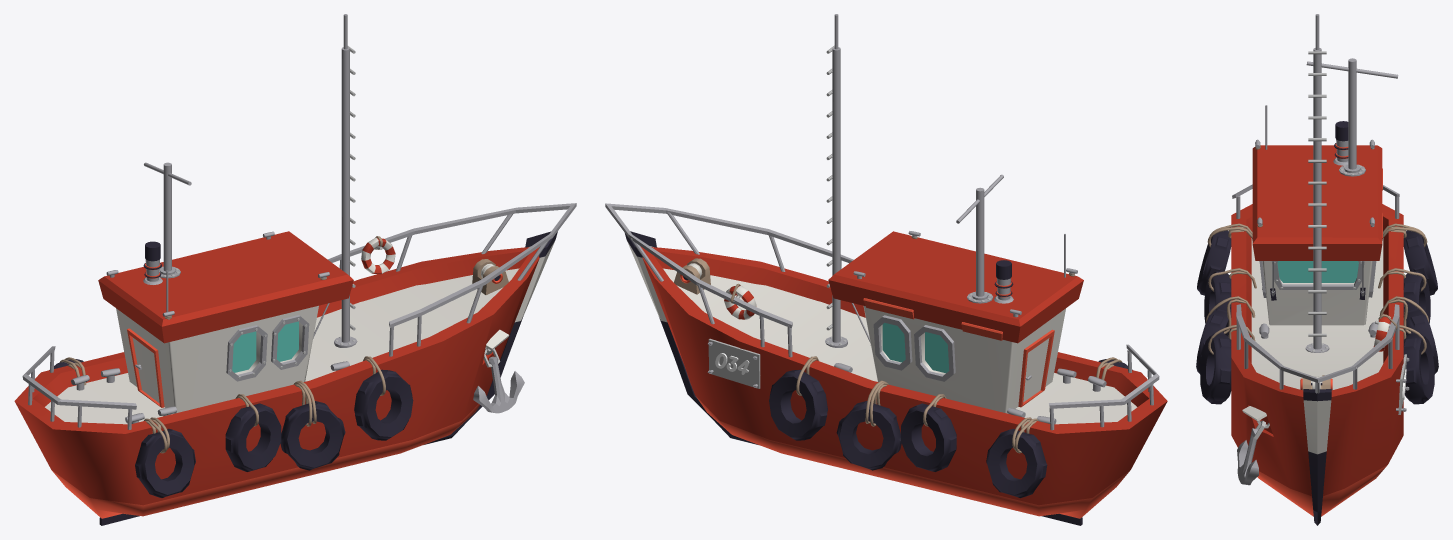
The model's file is ship.glb.
3 views of the same model, side by side, from view 1: azimuth 30°, elevation 25°; view 2: azimuth 150°, elevation 25°; view 3: azimuth 270°, elevation 25° (orthographic). The views are drawn at different scales.
Visible parts, largest first — view 1: polySurface22, pCube49, pCylinder203, polySurface18, polySurface19, polySurface24, pCylinder274, pCube52, polySurface23, pCube54, polySurface21, pCylinder275 (+3 smaller); view 2: polySurface22, pCube49, pCylinder203, polySurface18, polySurface19, polySurface24, pCylinder274, pCube51, polySurface23, typeMesh3, polySurface21, pCylinder275 (+3 smaller); view 3: polySurface22, pCube49, pCylinder203, polySurface19, polySurface18, polySurface23, pCylinder274, polySurface24, pCylinder275, pCube54, pCube53, typeMesh3 (+3 smaller).
Boxes of the visible parts, x1,y1,x2,y2 form: polySurface22: (14,247,539,518); pCube49: (98,231,353,343); pCylinder203: (49,356,413,497); polySurface18: (116,305,318,413); polySurface19: (45,268,519,424); polySurface24: (328,203,576,356); pCylinder274: (341,47,349,342); pCube52: (226,315,309,381); polySurface23: (99,231,557,525); pCube54: (473,356,524,413); polySurface21: (22,346,136,409); pCylinder275: (163,162,171,271); polySurface22: (640,246,1167,518); pCube49: (828,231,1083,343); pCylinder203: (769,356,1132,498); polySurface18: (863,306,1065,413); polySurface19: (663,268,1137,424); polySurface24: (605,203,853,357); pCylinder274: (832,47,840,342); pCube51: (873,315,955,381); polySurface23: (625,231,1082,525); typeMesh3: (707,338,760,388); polySurface21: (1049,344,1159,408); pCylinder275: (976,187,984,296); polySurface22: (1231,204,1403,516); pCube49: (1252,145,1382,260); pCylinder203: (1196,223,1438,404); polySurface19: (1251,238,1383,389); polySurface18: (1262,261,1372,325); polySurface23: (1303,389,1331,525); pCylinder274: (1313,48,1321,349); polySurface24: (1236,304,1399,393); pCylinder275: (1348,58,1356,169); pCube54: (1237,428,1258,485); pCube53: (1272,261,1364,289); typeMesh3: (1396,354,1409,414).
Size of the model in its own units: 2.13 by 1.69 by 0.808.
